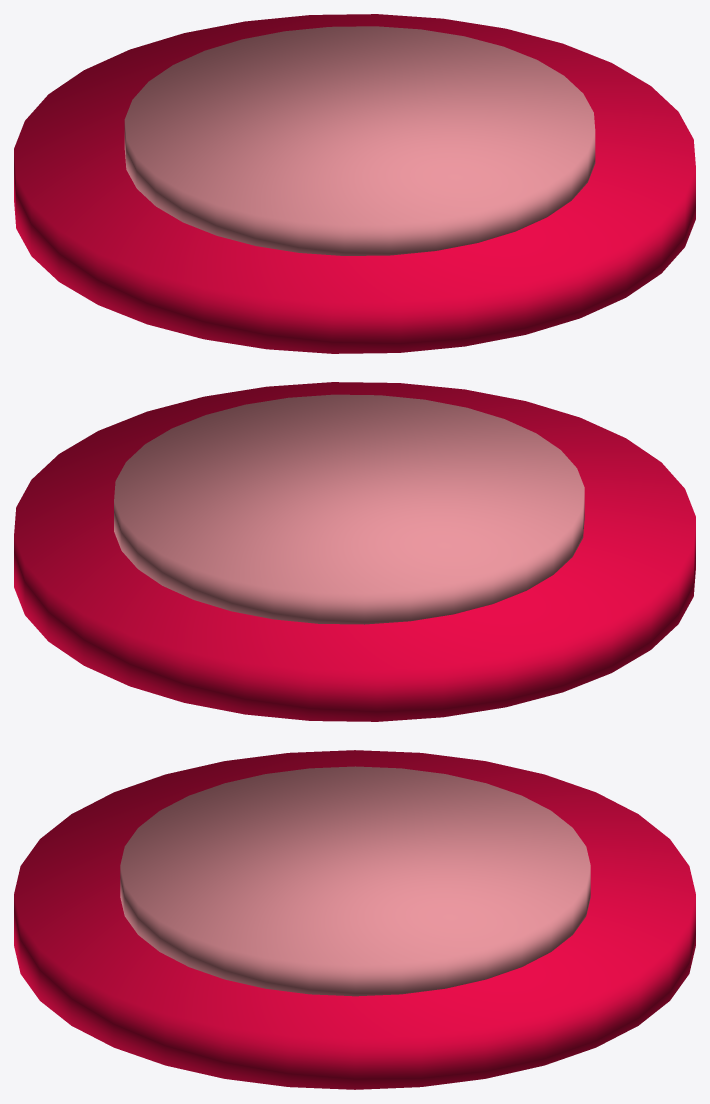
Rendered from redPlate.fbx.
3 views of the same model, one above another, from view 1: azimuth 30°, elevation 25°; view 2: azimuth 150°, elevation 25°; view 3: azimuth 270°, elevation 25° (orthographic).
Parts seen in each view (by area): view 1: Cylinder, Cylinder.001; view 2: Cylinder, Cylinder.001; view 3: Cylinder, Cylinder.001.
Part boxes in pixels (x1=…): Cylinder: x1=14, y1=14, x2=695, y2=353; Cylinder.001: x1=124, y1=26, x2=595, y2=255; Cylinder: x1=14, y1=382, x2=695, y2=721; Cylinder.001: x1=114, y1=394, x2=584, y2=624; Cylinder: x1=14, y1=750, x2=695, y2=1089; Cylinder.001: x1=120, y1=766, x2=590, y2=996.
Bounding box in the file's own units: 120 × 16.01 × 120.
